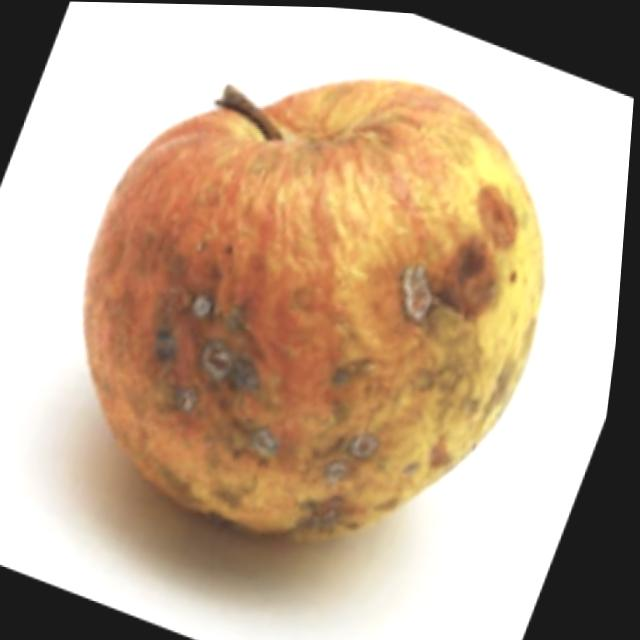organik: (50, 47, 570, 544)
